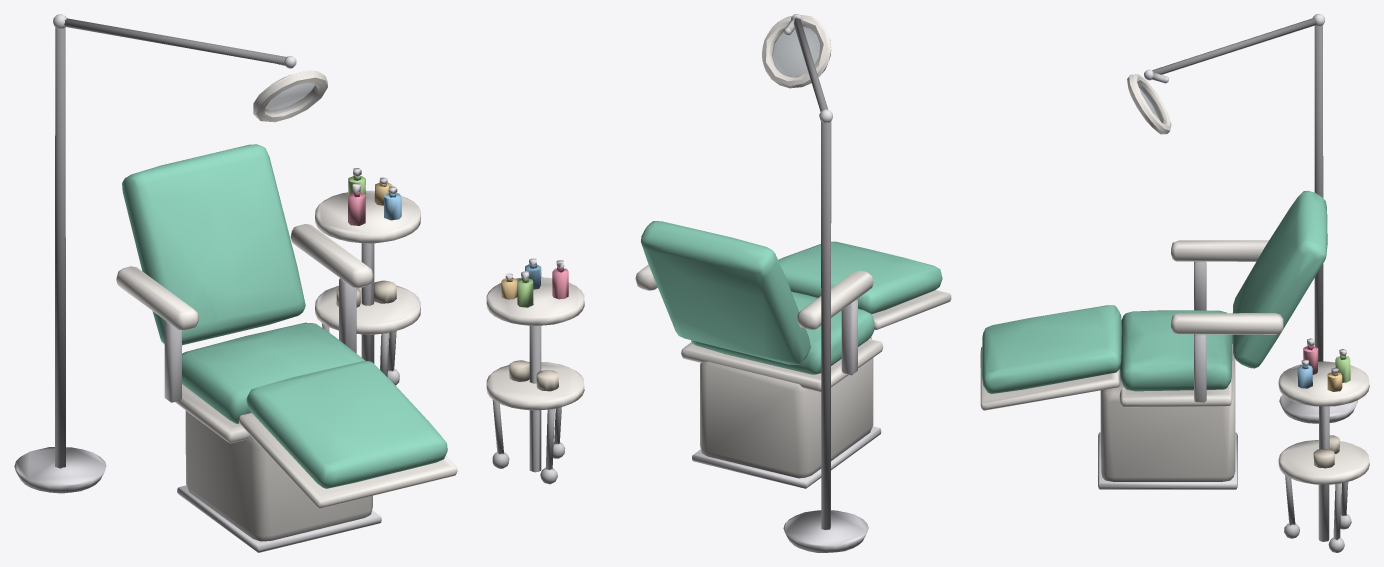
The model's file is facial-chair-mint.glb.
3 renders of one model, left to right at view 1: azimuth 30°, elevation 25°; view 2: azimuth 150°, elevation 25°; view 3: azimuth 270°, elevation 25°, orthographic. The views are drawn at different scales.
Parts seen in each view (by area): view 1: facial-chair-mint; view 2: facial-chair-mint; view 3: facial-chair-mint.
Boxes of the visible parts, <box> form: facial-chair-mint: <box>14,14,457,552</box>; facial-chair-mint: <box>486,14,951,552</box>; facial-chair-mint: <box>980,14,1369,552</box>.
Bounding box in the file's own units: 1.46 × 1.62 × 1.44.
